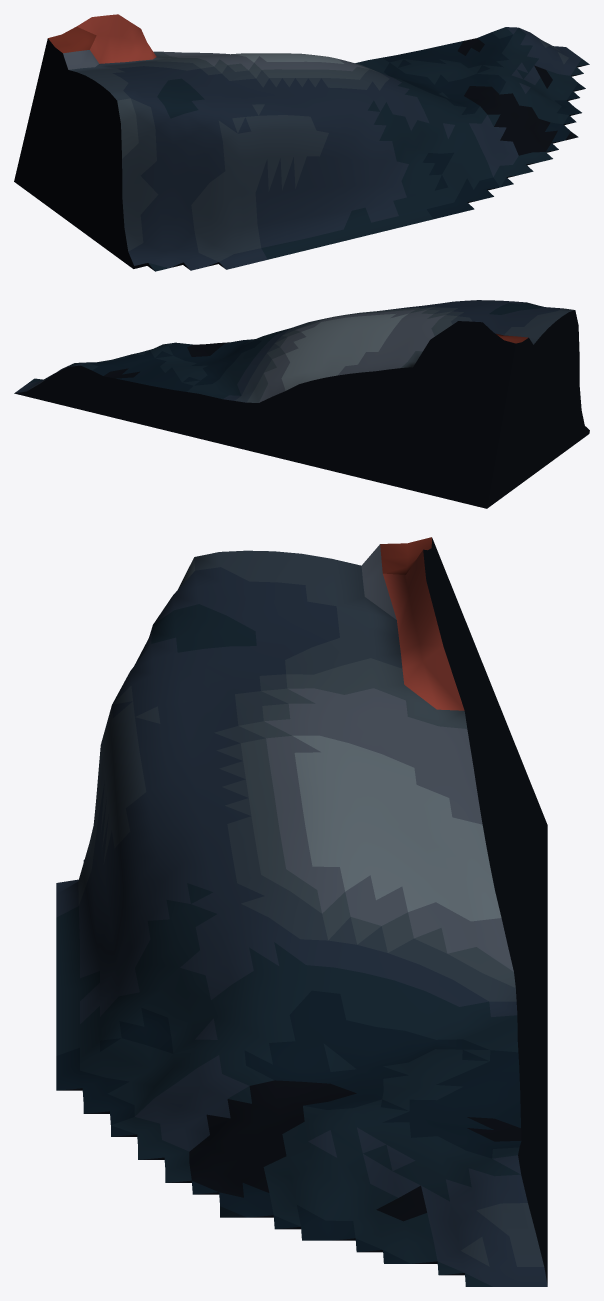
The model's file is gyges_maw_197.glb.
3 renders of one model, top to bottom at view 1: azimuth 30°, elevation 25°; view 2: azimuth 150°, elevation 25°; view 3: azimuth 270°, elevation 25°, orthographic. The views are drawn at different scales.
Parts seen in each view (by area): view 1: gyges_maw_197; view 2: gyges_maw_197; view 3: gyges_maw_197.
Boxes of the visible parts, x1,y1,x2,y2 form: gyges_maw_197: [14, 14, 589, 271]; gyges_maw_197: [14, 300, 589, 508]; gyges_maw_197: [56, 537, 547, 1286].
Size of the model in its own units: 20 by 6.27 by 9.
